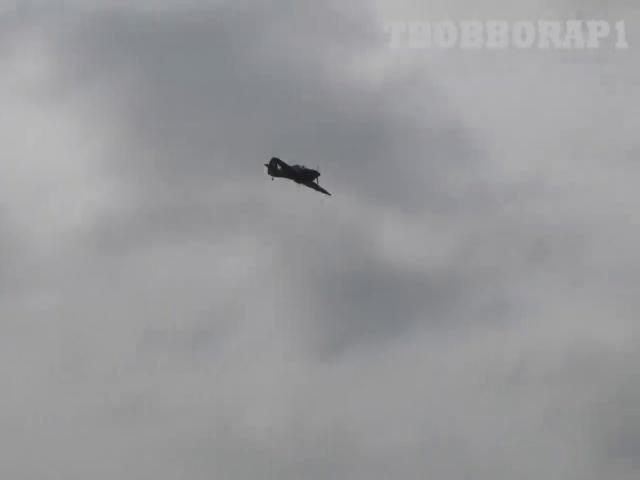Airplane: (264, 157, 331, 197)
